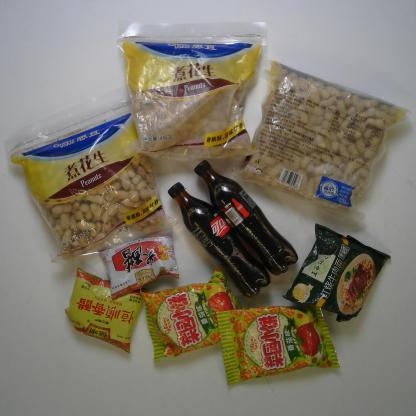Dried Food: (3, 82, 181, 264), (225, 58, 411, 224), (114, 16, 268, 165)
Drink: (192, 158, 300, 276), (166, 180, 271, 299)
Instant Noodles: (281, 220, 392, 324)
Puffed Food: (214, 302, 342, 387), (138, 264, 246, 364)
Seasoner: (63, 266, 148, 355), (98, 224, 181, 302)
